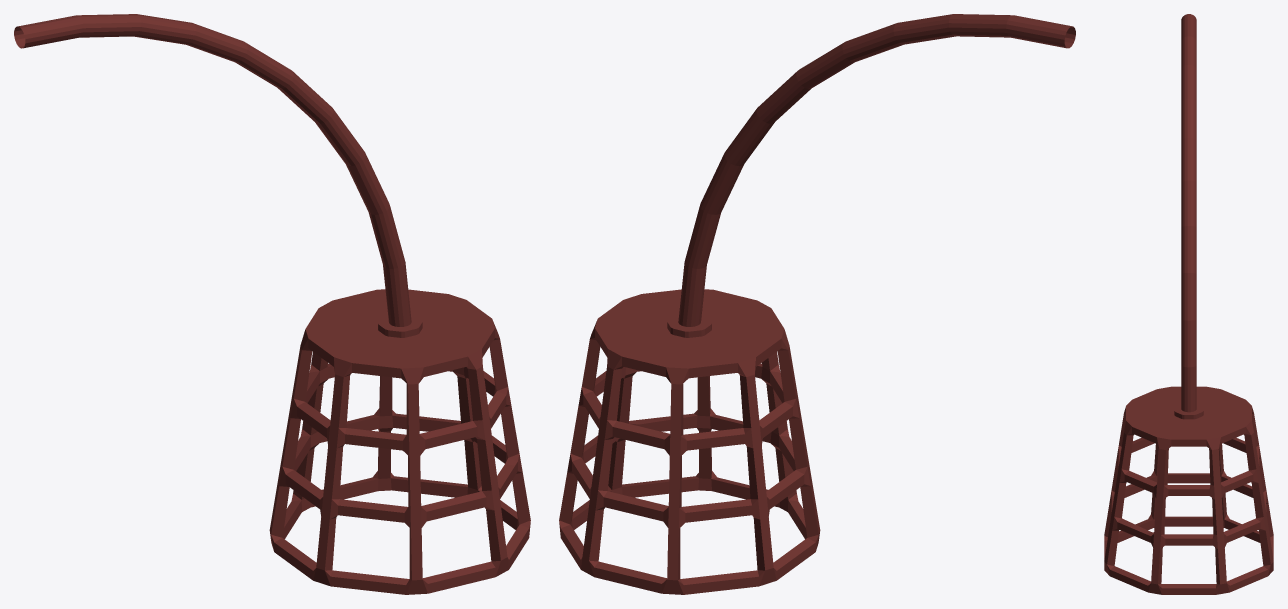
Rendered from Jaula_pieza_D.fbx.
The picture shows the model from 3 angles, left to right: view 1: azimuth 30°, elevation 25°; view 2: azimuth 150°, elevation 25°; view 3: azimuth 270°, elevation 25°; orthographic projection. The views are drawn at different scales.
Parts seen in each view (by area): view 1: Jaula_pieza_D; view 2: Jaula_pieza_D; view 3: Jaula_pieza_D.
Part boxes in pixels (bbox=[...]): Jaula_pieza_D: bbox=[14, 14, 530, 594]; Jaula_pieza_D: bbox=[559, 14, 1075, 594]; Jaula_pieza_D: bbox=[1104, 14, 1273, 594].
Size of the model in its own units: 258 by 306 by 113.
